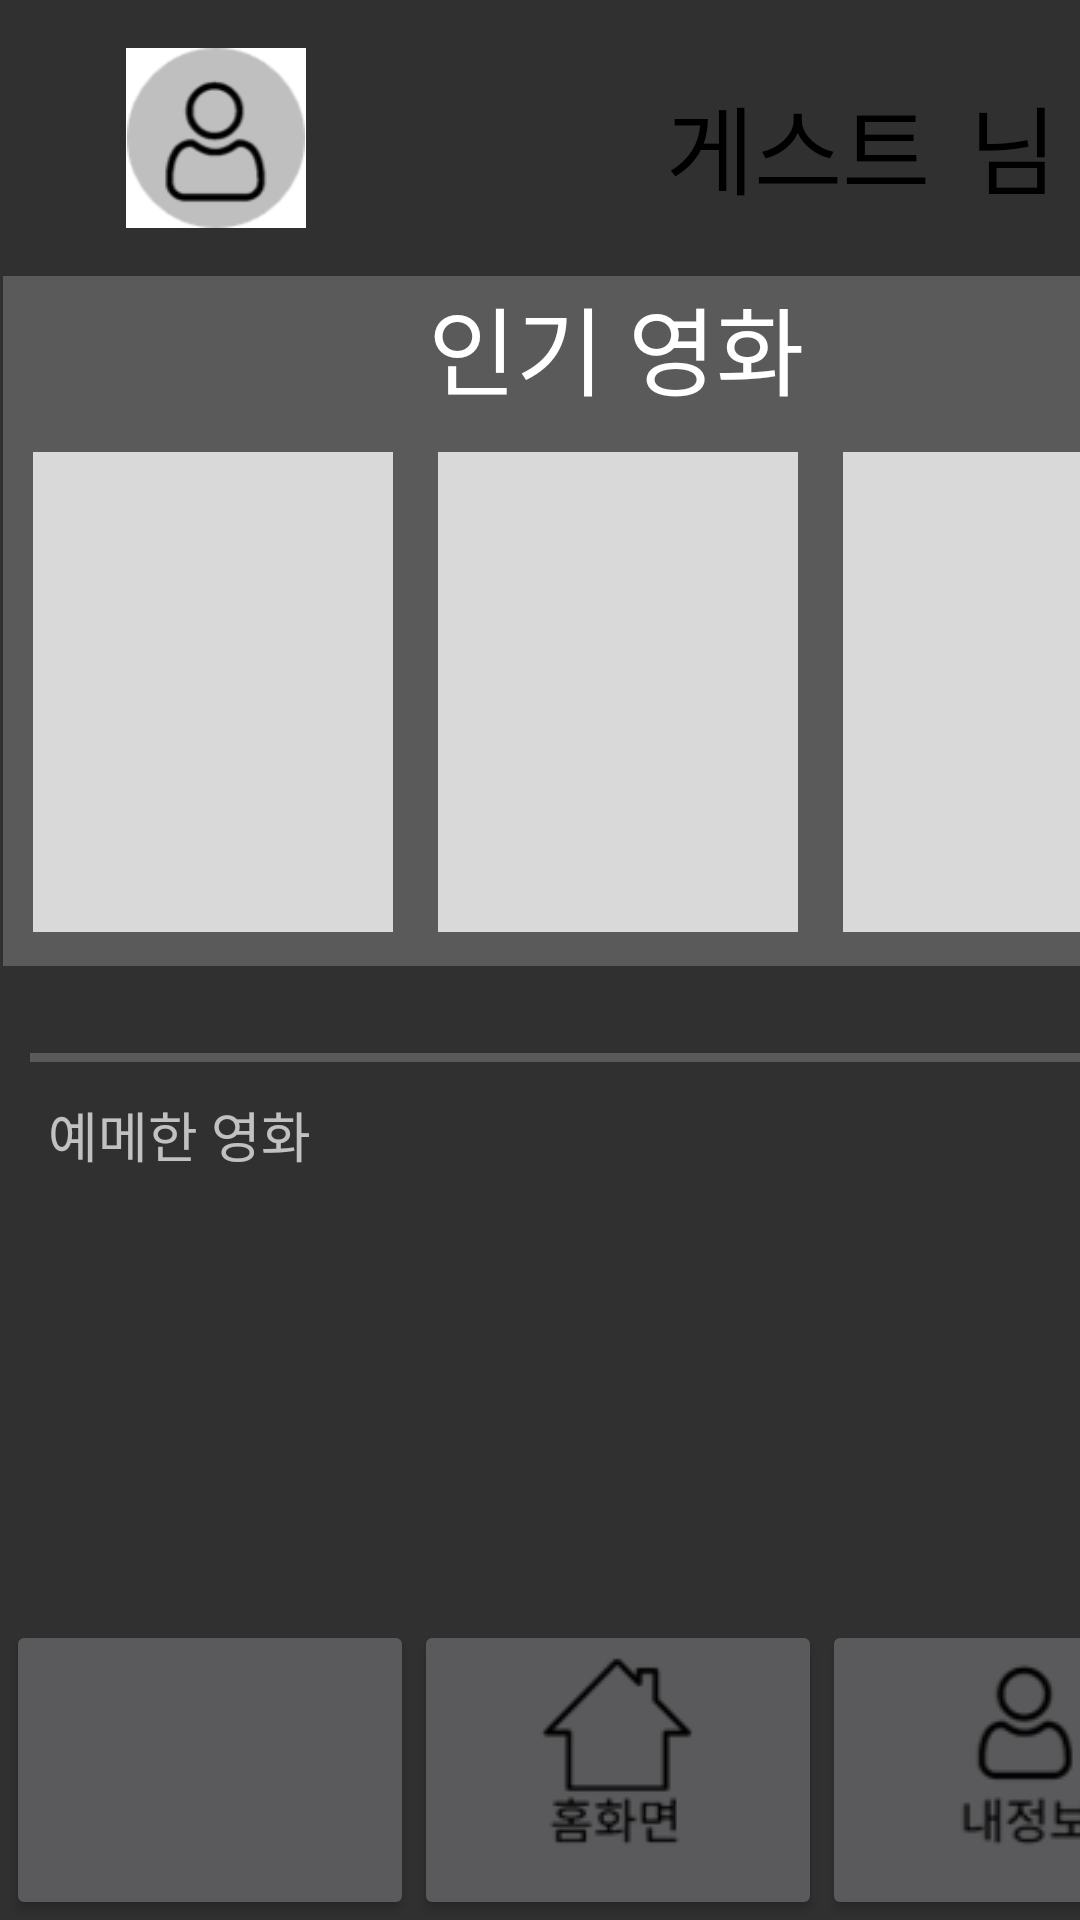

Icon click points for this 1080x1920 phone screenshot, format [x,y]:
profile: [216,138]
